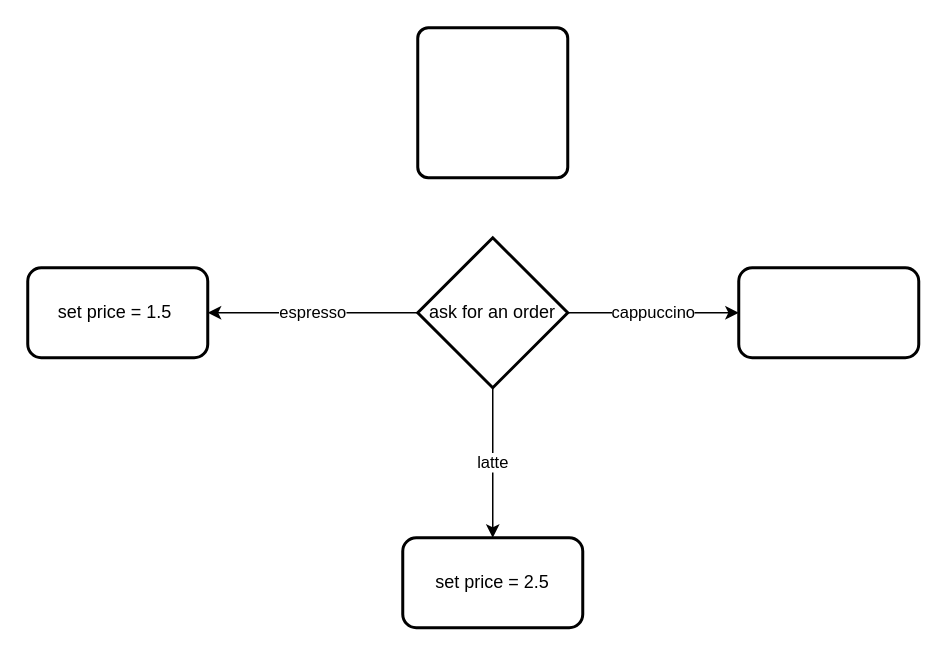
Image size: 945x654. Some labels were removed from this diagram. Here are the shapes that lost their labels. From the top down, the box of each, then its label:
(416, 26, 568, 178): start
(736, 266, 920, 358): price = 3
